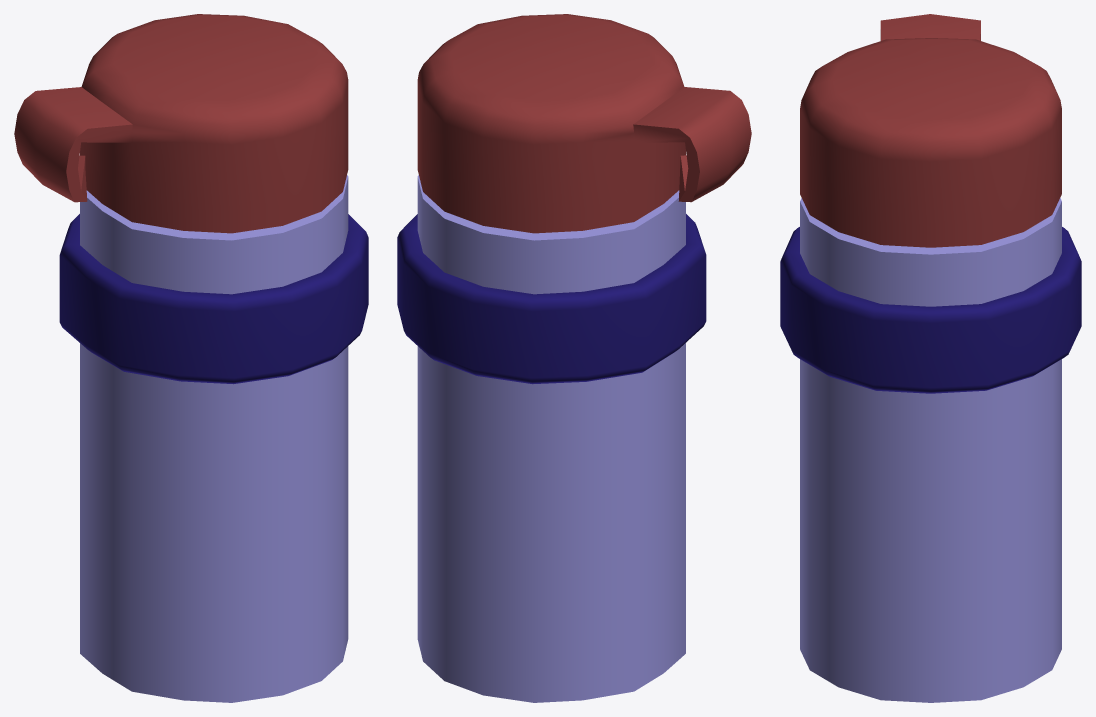
The model's file is Soup_Thermos_001.fbx.
The picture shows the model from 3 angles, left to right: view 1: azimuth 30°, elevation 25°; view 2: azimuth 150°, elevation 25°; view 3: azimuth 270°, elevation 25°; orthographic projection. The views are drawn at different scales.
Parts seen in each view (by area): view 1: pCylinder1; view 2: pCylinder1; view 3: pCylinder1.
Boxes of the visible parts, left/top/right/bottom form: pCylinder1: left=14, top=14, right=368, bottom=702; pCylinder1: left=397, top=14, right=751, bottom=702; pCylinder1: left=780, top=14, right=1081, bottom=702.
Bounding box in the file's own units: 0.9158 × 1.65 × 0.7919.
